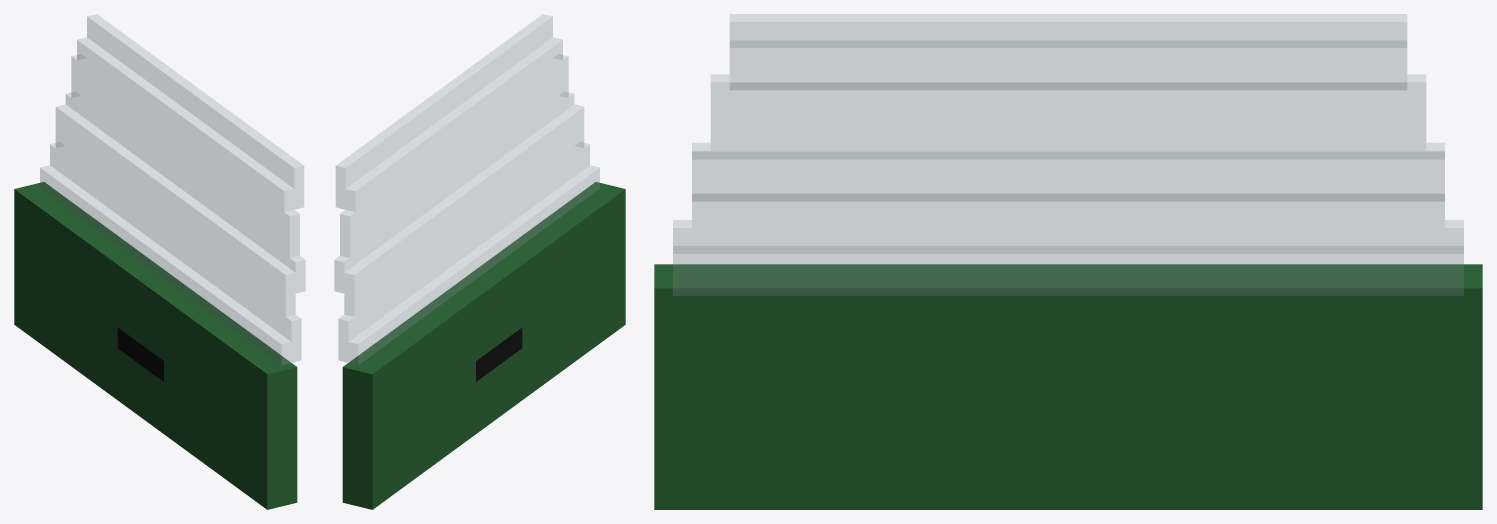
Rendered from suv_tailgate.glb.
3 views of the same model, side by side, from view 1: azimuth 30°, elevation 25°; view 2: azimuth 150°, elevation 25°; view 3: azimuth 270°, elevation 25° (orthographic). The views are drawn at different scales.
Visible parts, largest first — view 1: body:compound; view 2: body:compound; view 3: body:compound.
Boxes of the visible parts, box(x1,y1,x2,y2) form: body:compound: box(14, 14, 305, 509); body:compound: box(334, 14, 625, 509); body:compound: box(654, 14, 1482, 509).
Size of the model in its own units: 0.1875 by 0.9375 by 1.38.
